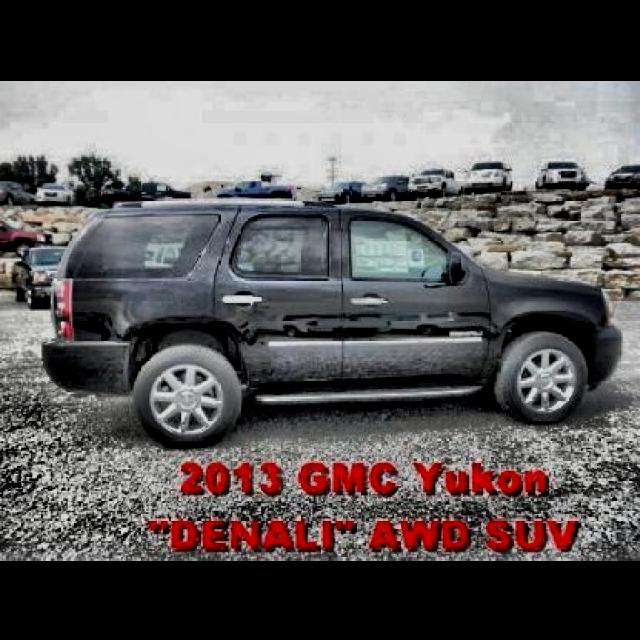black: (46, 191, 606, 435)
